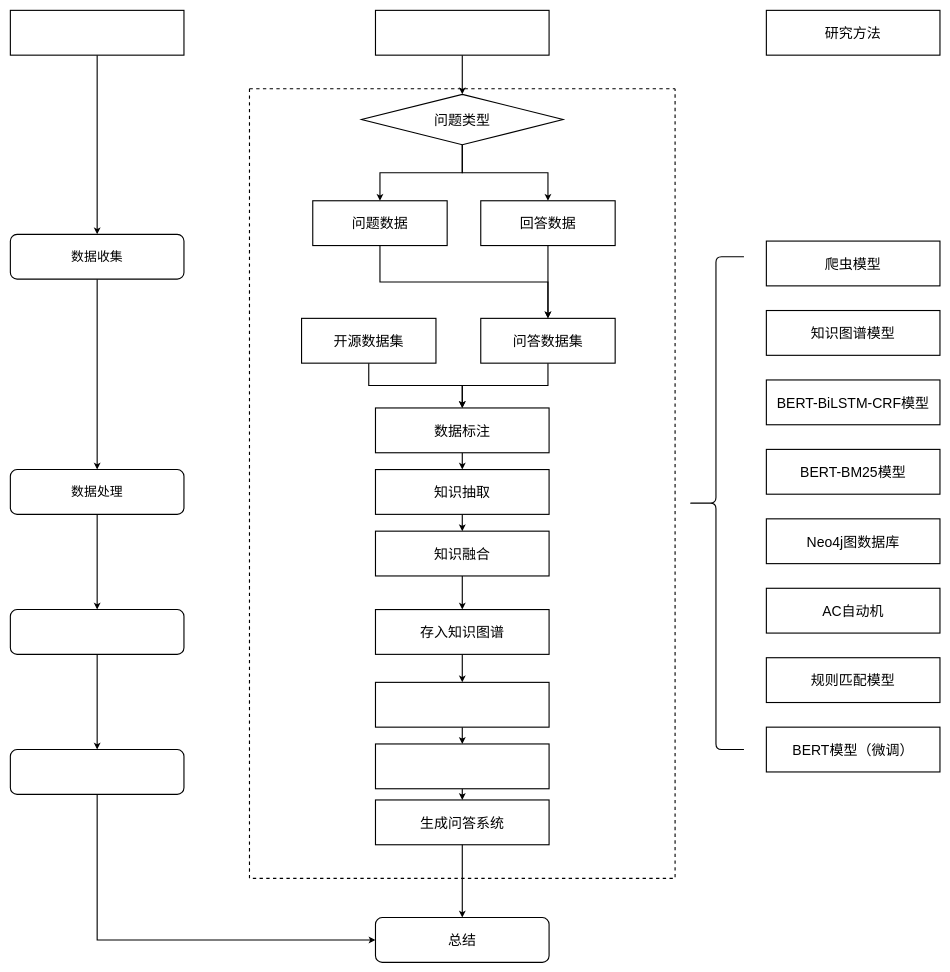
This 950x972 diagram has some shape labels left out. Here are the shapes that lost their labels. From the top down, the centre of each, then its label:
(x=97, y=32): 研究思路
(x=462, y=32): 研究内容
(x=97, y=632): 数据存储与可视化
(x=462, y=704): 意图识别
(x=97, y=772): 问答系统
(x=462, y=766): 槽位填充
